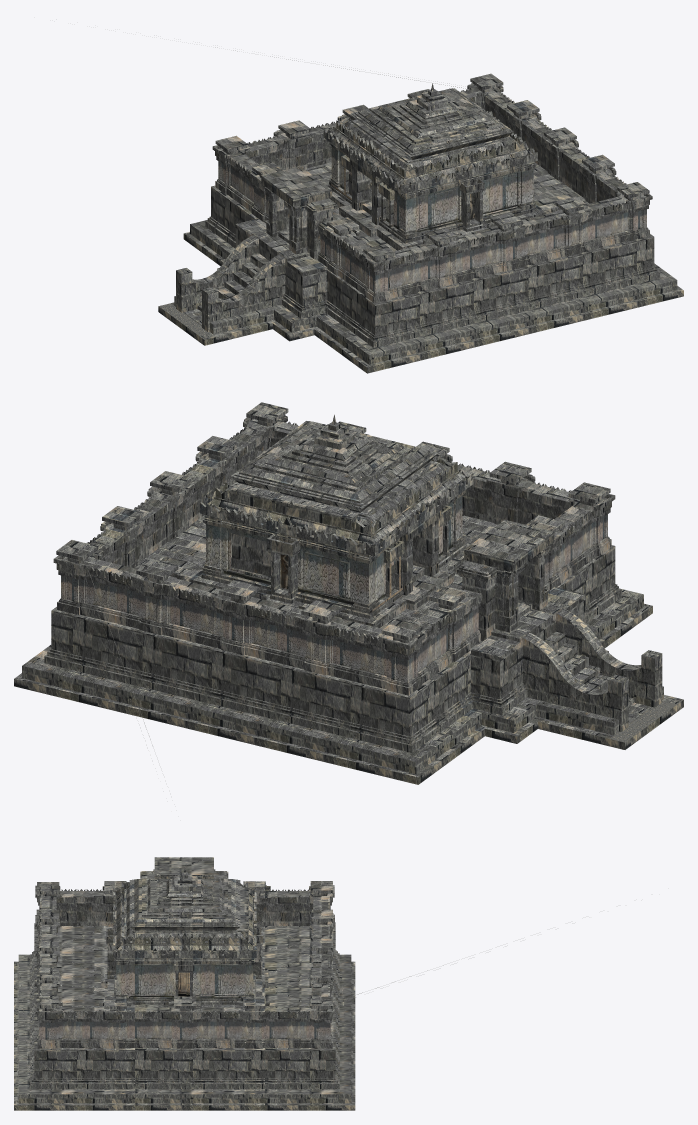
File: sambisari.gltf
The picture shows the model from 3 angles, top to bottom: view 1: azimuth 30°, elevation 25°; view 2: azimuth 150°, elevation 25°; view 3: azimuth 270°, elevation 25°; orthographic projection. The views are drawn at different scales.
Visible parts, largest first — view 1: Model, Group3, Mesh4_gg_0, Mesh4_FrontColor_0; view 2: Model, Group3, Mesh4_gg_0, Mesh4_FrontColor_0; view 3: Model, Mesh4_gg_0.
Boxes of the visible parts, bbox=[...] form: Model: bbox=[158, 73, 683, 373]; Group3: bbox=[176, 231, 294, 331]; Mesh4_gg_0: bbox=[331, 146, 533, 232]; Mesh4_FrontColor_0: bbox=[158, 47, 465, 335]; Model: bbox=[14, 402, 683, 784]; Group3: bbox=[510, 604, 662, 731]; Mesh4_gg_0: bbox=[204, 495, 462, 604]; Mesh4_FrontColor_0: bbox=[88, 569, 676, 745]; Model: bbox=[14, 857, 355, 1110]; Mesh4_gg_0: bbox=[116, 964, 254, 999].
Bounding box in the file's own units: 0.1797 × 0.0775 × 0.2735.
6 materials, 6 textured.
